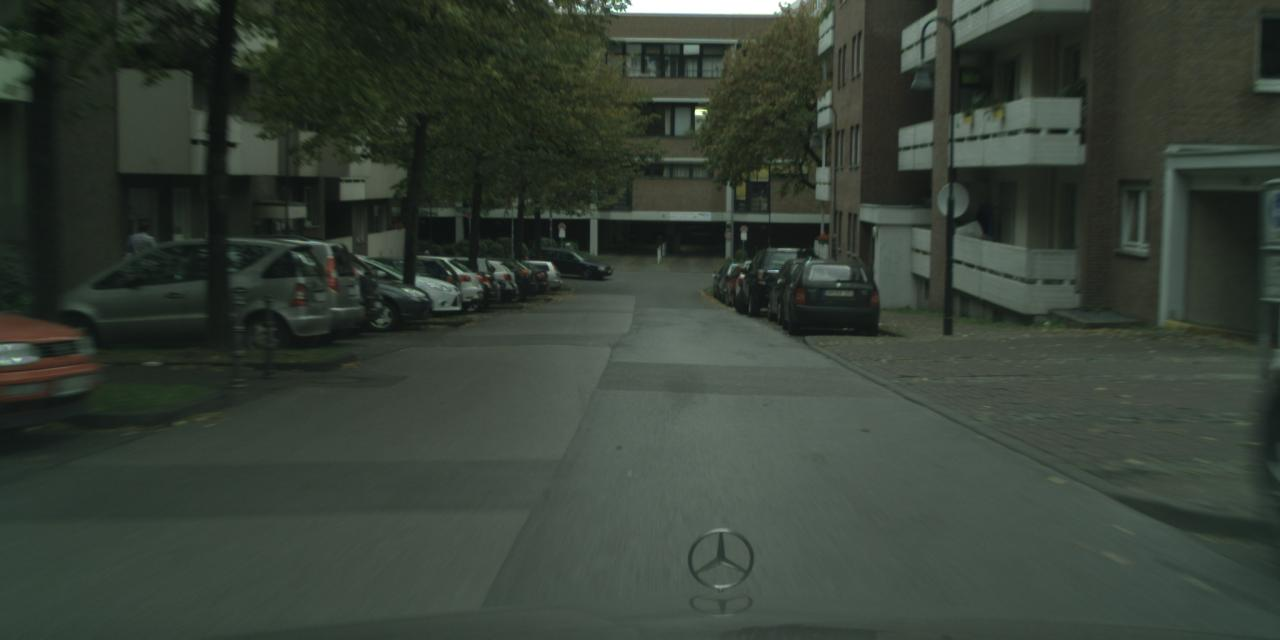ped: (122, 220, 162, 316), (420, 249, 435, 287)
